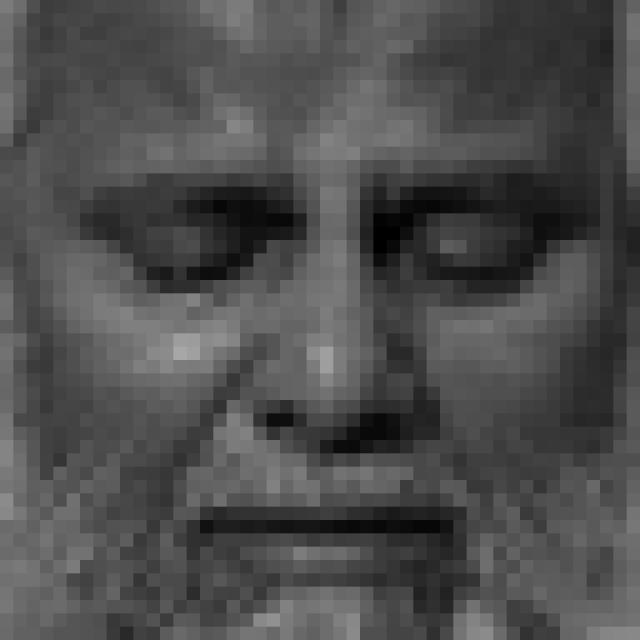sad: (59, 132, 590, 592)
